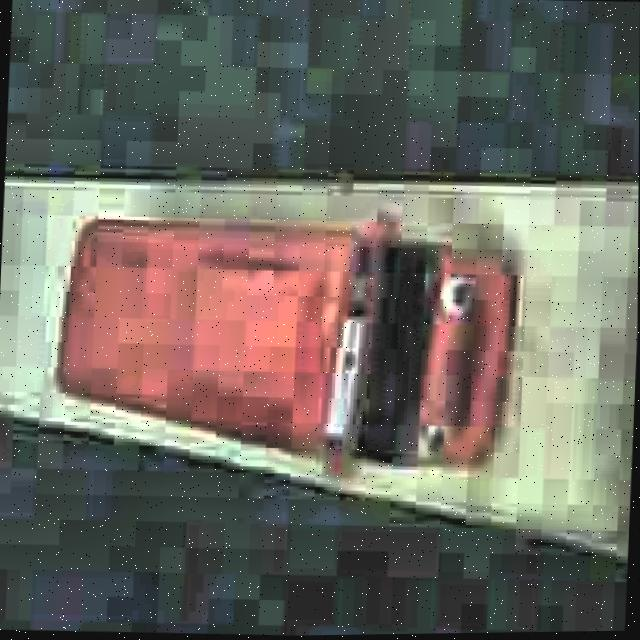bus: (46, 204, 525, 491)
